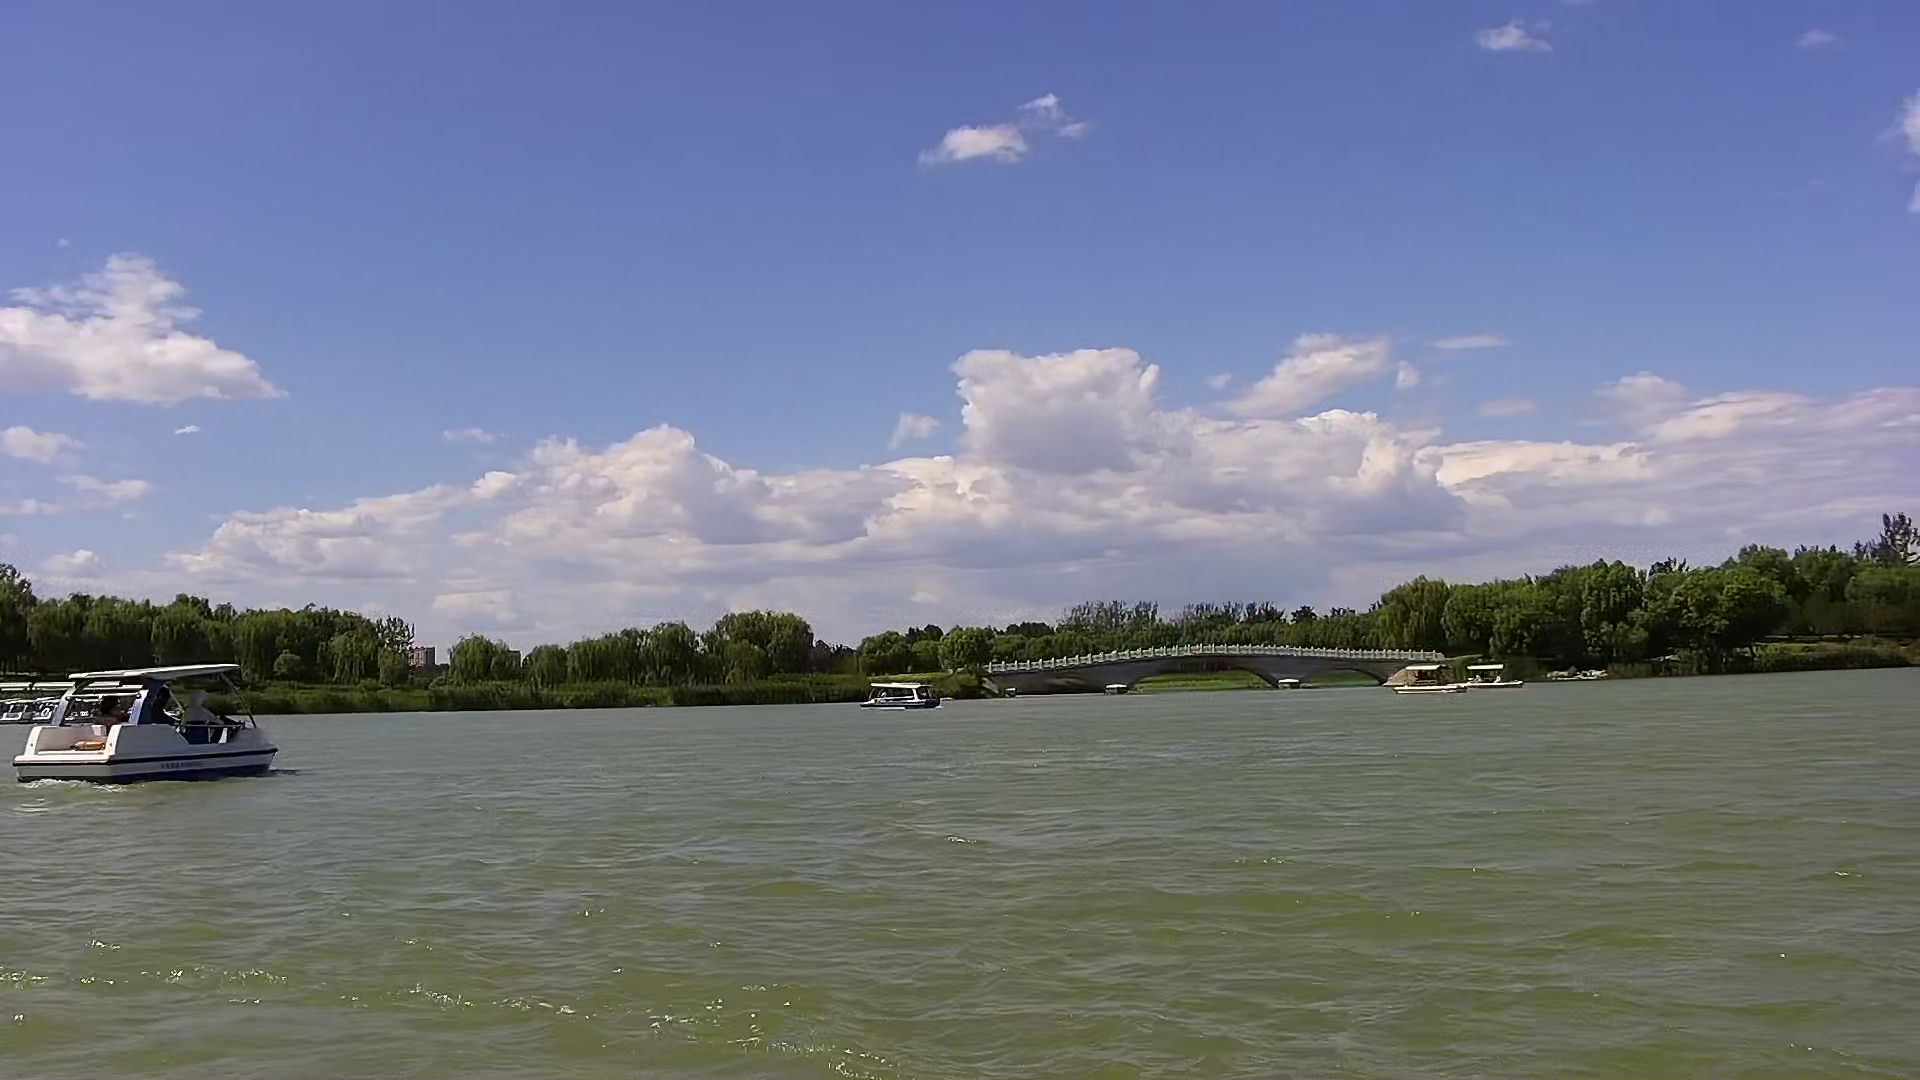boat: (17, 640, 286, 804), (853, 671, 955, 721), (1390, 658, 1464, 713), (1464, 645, 1510, 702)
bridge: (982, 634, 1389, 698)
